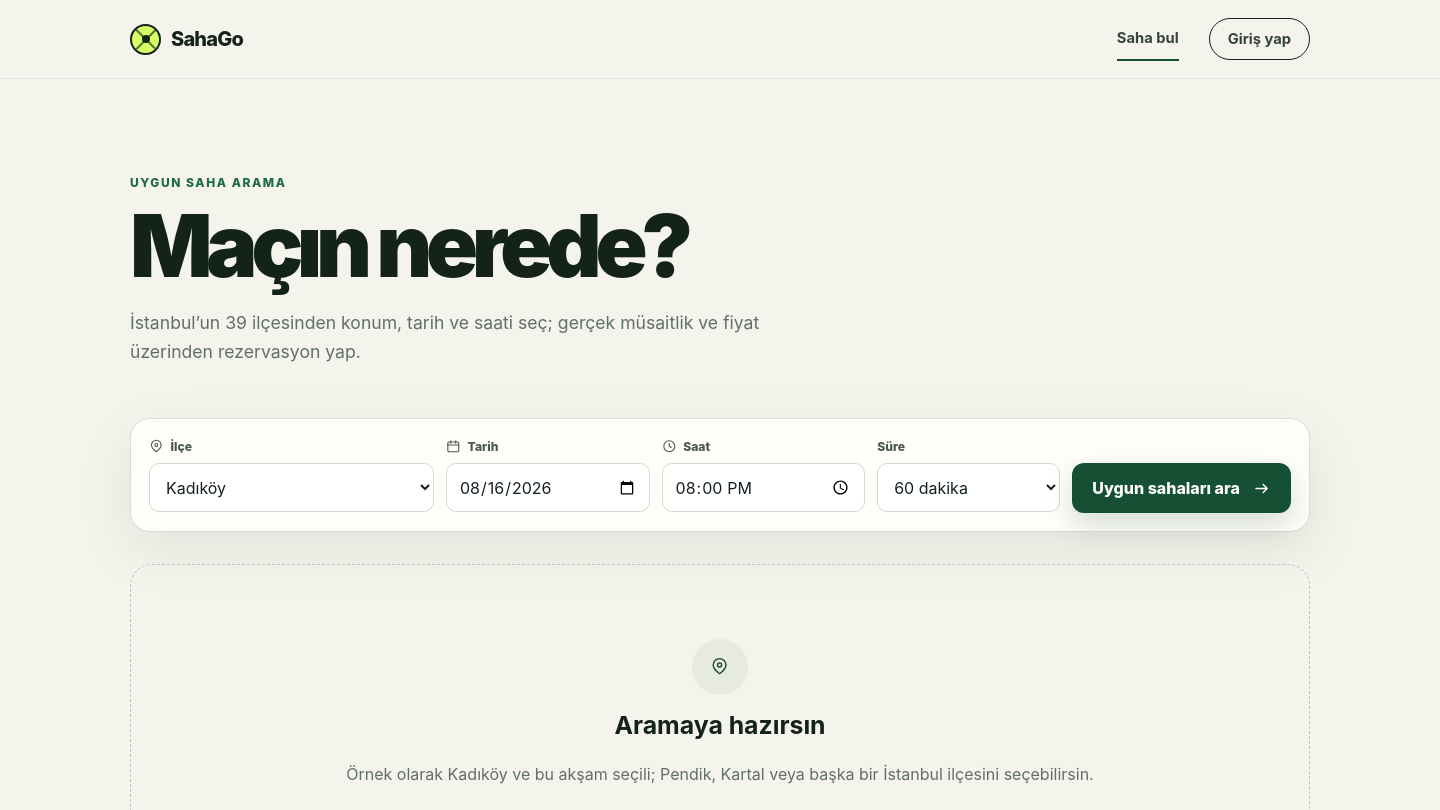
it: frontend routes › shows an empty result without inventing field data
Click the button "Uygun sahaları ara". click: (1182, 488)
box: [1072, 463, 1291, 513]
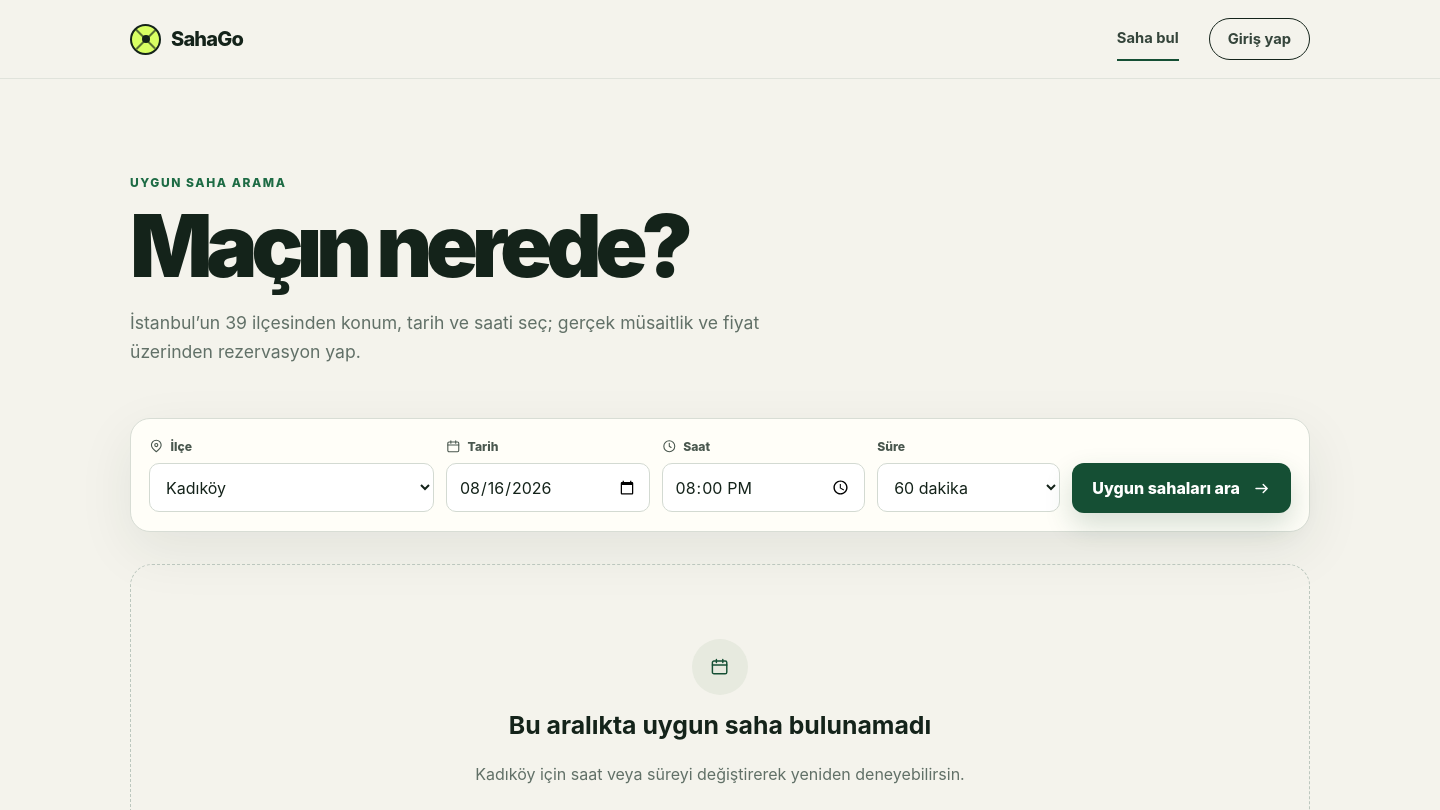
Now the heading "Bu aralıkta uygun saha bulunamadı" is shown, box [509, 710, 931, 740]
